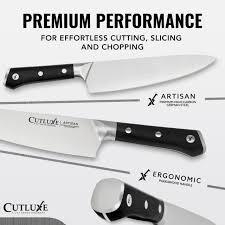Knife: (0, 105, 206, 158), (4, 53, 216, 93)
